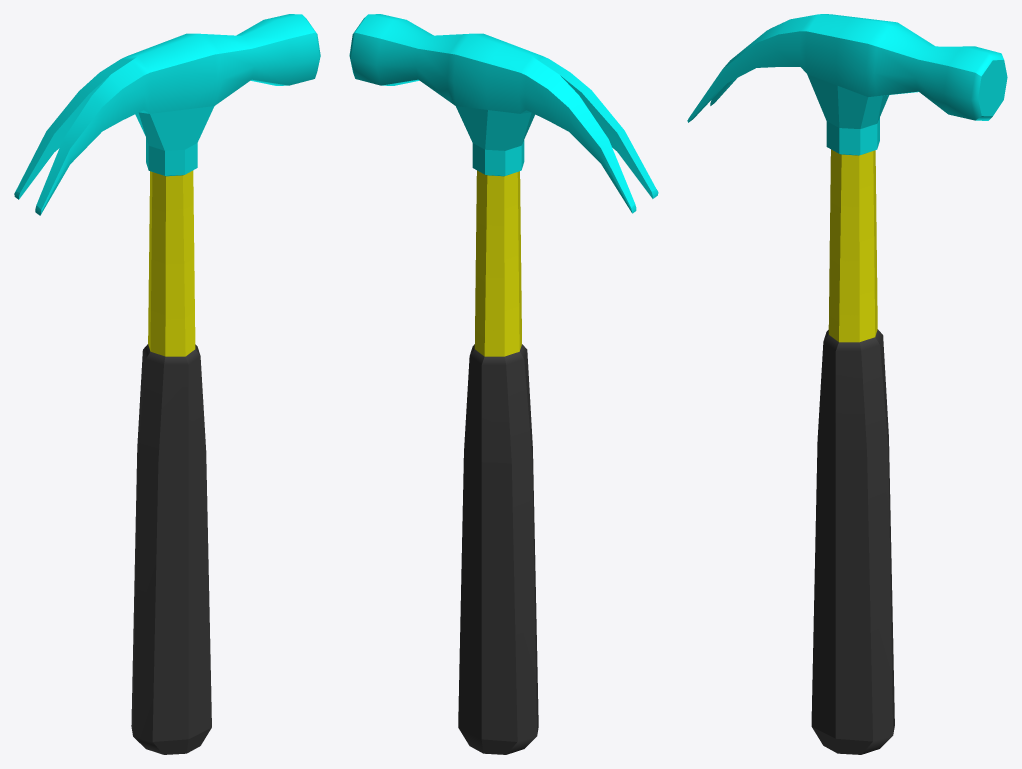
File: Texture_Hammer.obj
3 renders of one model, left to right at view 1: azimuth 30°, elevation 25°; view 2: azimuth 150°, elevation 25°; view 3: azimuth 330°, elevation 25°, orthographic. The views are drawn at different scales.
Visible parts, largest first — view 1: HammerMesh; view 2: HammerMesh; view 3: HammerMesh.
Part boxes in pixels (box(x1,y1,x2,y2)): HammerMesh: box(14, 14, 320, 754); HammerMesh: box(349, 14, 658, 754); HammerMesh: box(687, 14, 1007, 754).
Bounding box in the file's own units: 14.83 × 35.51 × 3.17.
